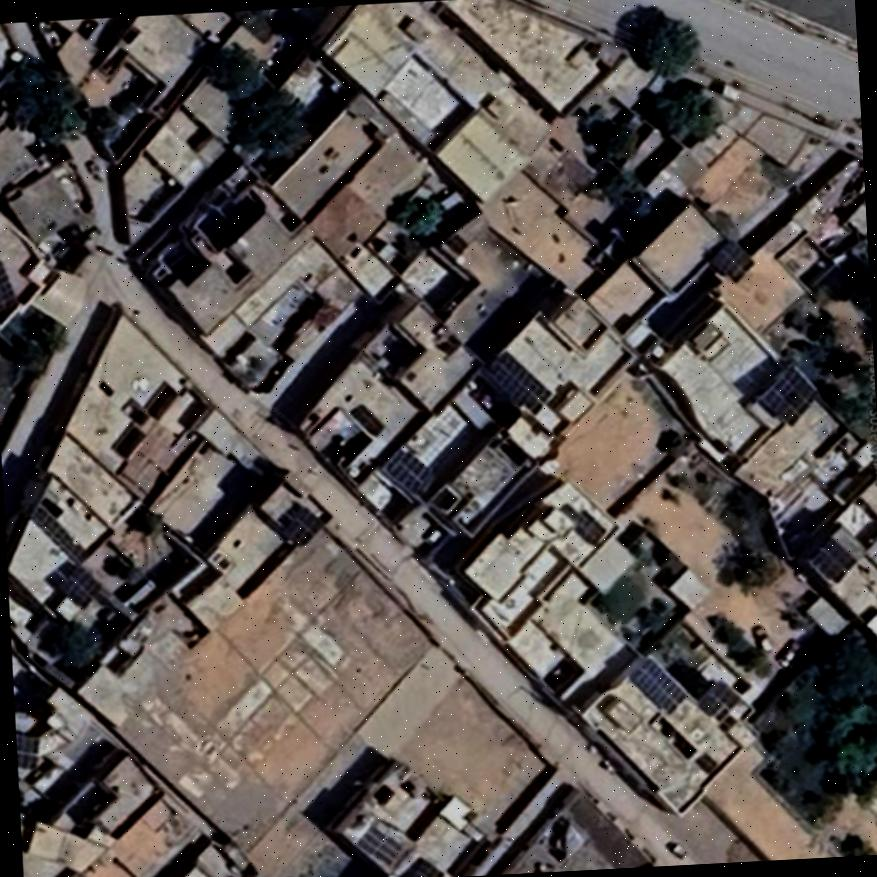Solarpanel: (490, 352, 549, 415), (629, 657, 688, 717), (763, 367, 815, 425), (811, 537, 855, 585), (387, 451, 437, 492), (712, 241, 753, 281), (61, 567, 99, 606), (287, 508, 324, 545), (15, 729, 36, 766), (0, 264, 14, 310)
